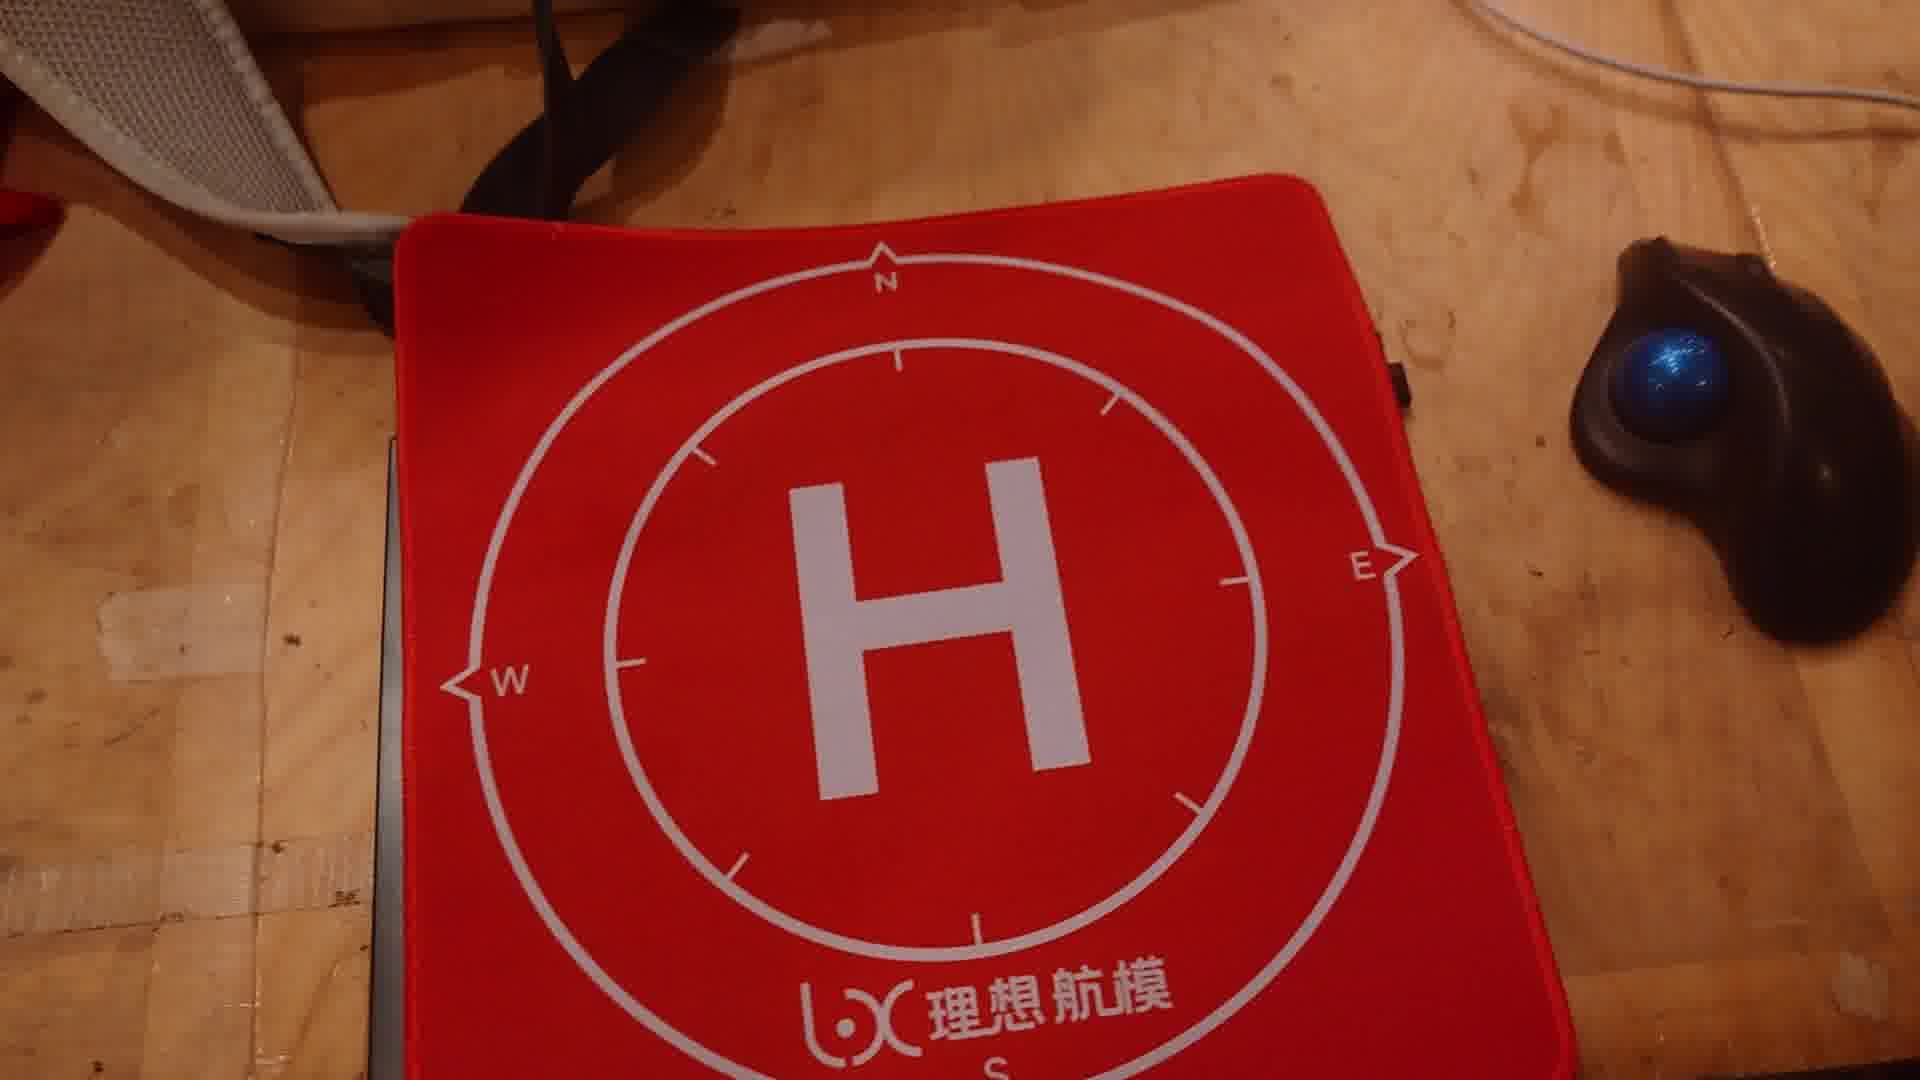H: (786, 454, 1098, 803)
